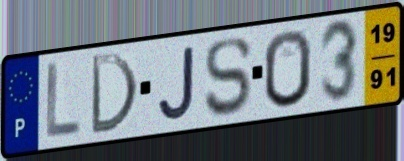3: (318, 15, 360, 108)
D: (88, 51, 141, 137)
J: (156, 43, 197, 123)
L: (43, 59, 83, 140)
O: (262, 27, 314, 111)
S: (203, 34, 254, 120)
